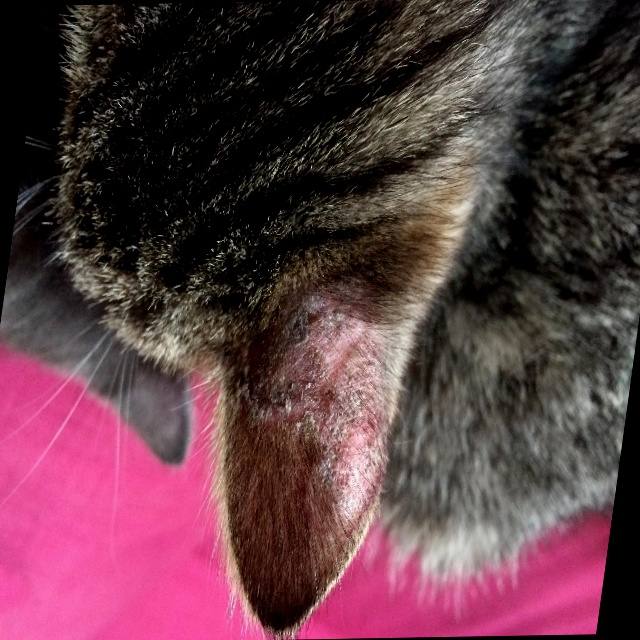ringworm: (253, 290, 411, 530)
